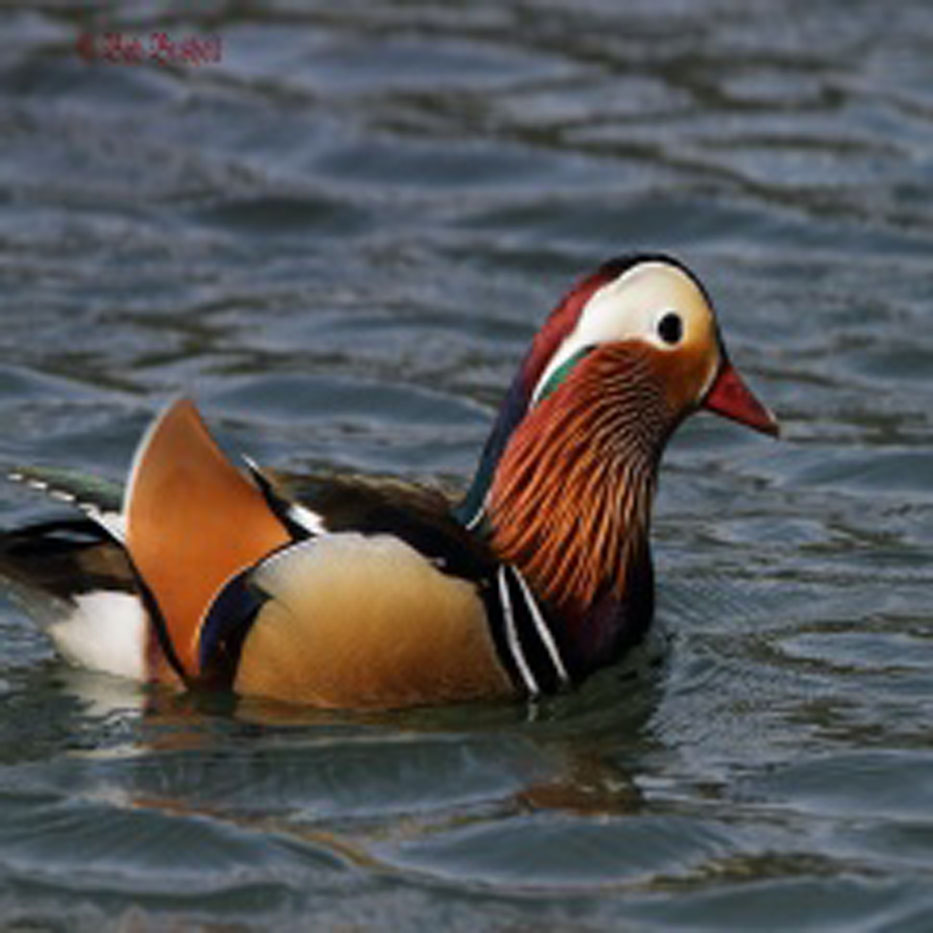Mencari Makan di Lumpur: (698, 368, 794, 439)
